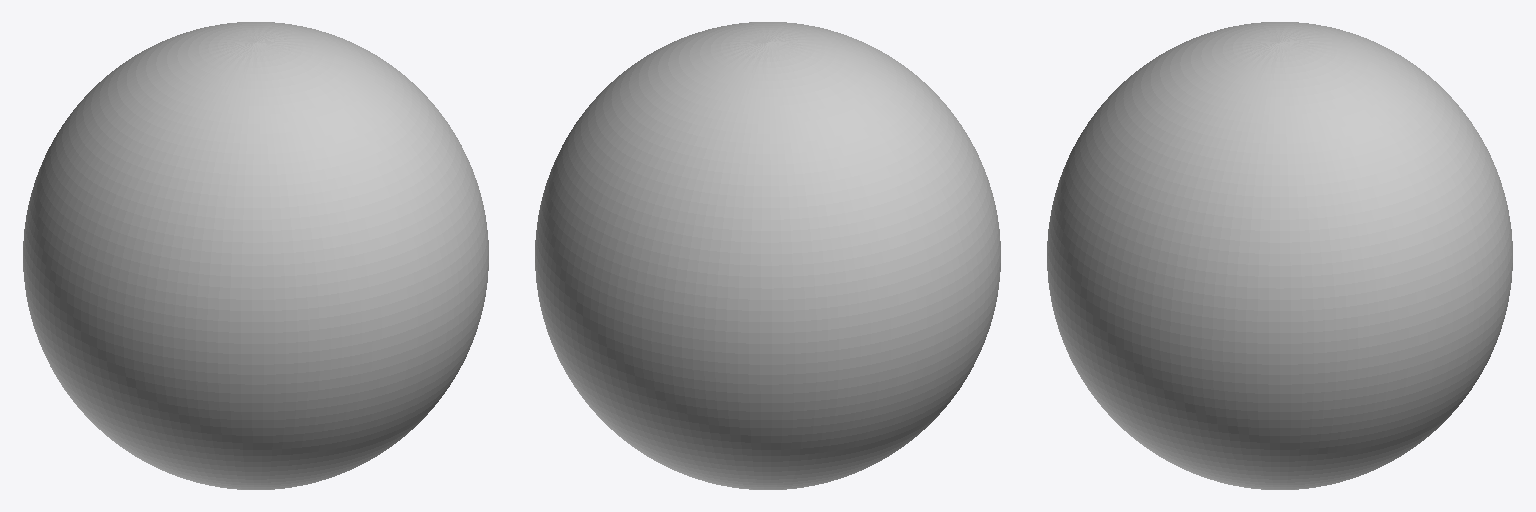
Rendered from EditSphere.obj.
3 views of the same model, side by side, from view 1: azimuth 30°, elevation 25°; view 2: azimuth 150°, elevation 25°; view 3: azimuth 270°, elevation 25° (orthographic).
Parts seen in each view (by area): view 1: Sphere; view 2: Sphere; view 3: Sphere.
Boxes of the visible parts, x1=… form: Sphere: x1=23, y1=22, x2=488, y2=489; Sphere: x1=535, y1=22, x2=1000, y2=489; Sphere: x1=1047, y1=22, x2=1512, y2=489.
Bounding box in the file's own units: 1.97 × 2 × 1.97.